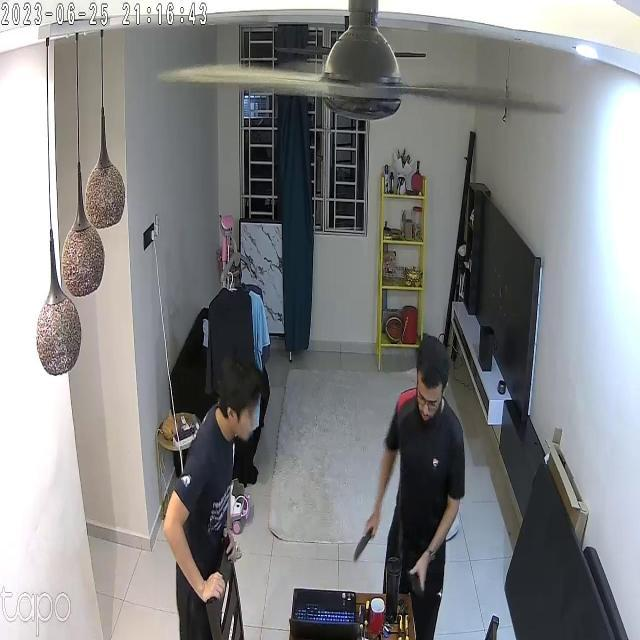Knife: (346, 520, 383, 568)
